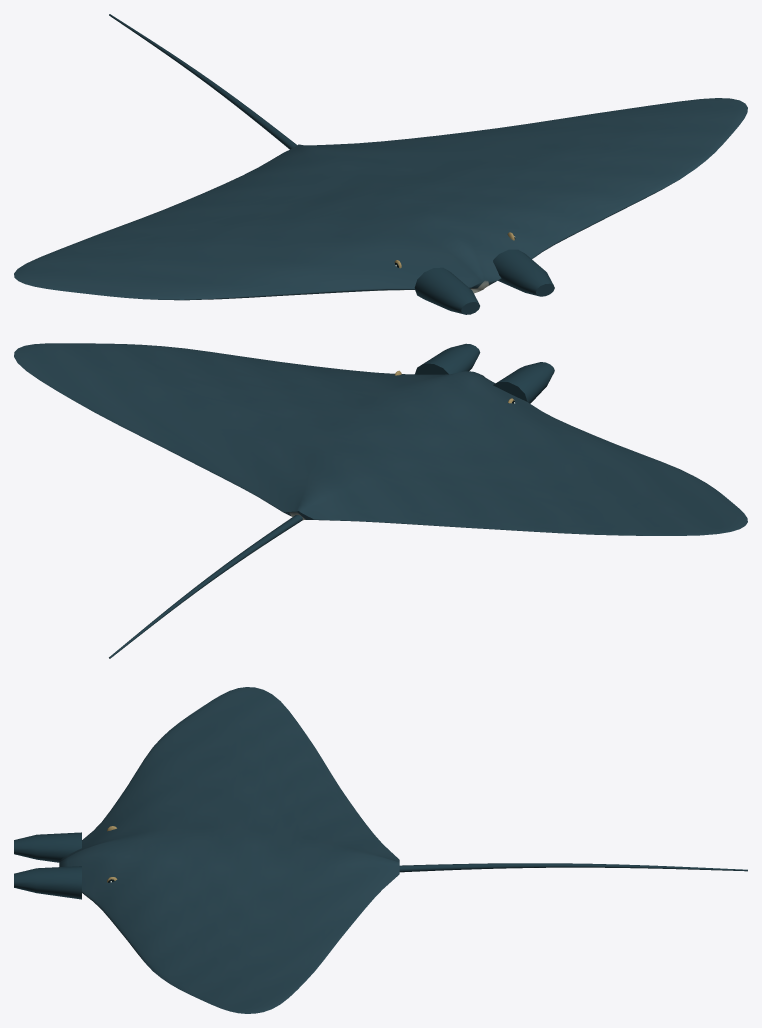
File: manta.glb
3 views of the same model, one above another, from view 1: azimuth 30°, elevation 25°; view 2: azimuth 150°, elevation 25°; view 3: azimuth 270°, elevation 25° (orthographic). The views are drawn at different scales.
Visible parts, largest first — view 1: Pelagic.manta.Surface; view 2: Pelagic.manta.Surface; view 3: Pelagic.manta.Surface.
Part boxes in pixels (box(x1,y1,x2,y2)): Pelagic.manta.Surface: box(14, 14, 747, 314); Pelagic.manta.Surface: box(14, 343, 747, 658); Pelagic.manta.Surface: box(14, 687, 747, 1013).
Size of the model in its own units: 6.82 by 0.5396 by 6.47.
